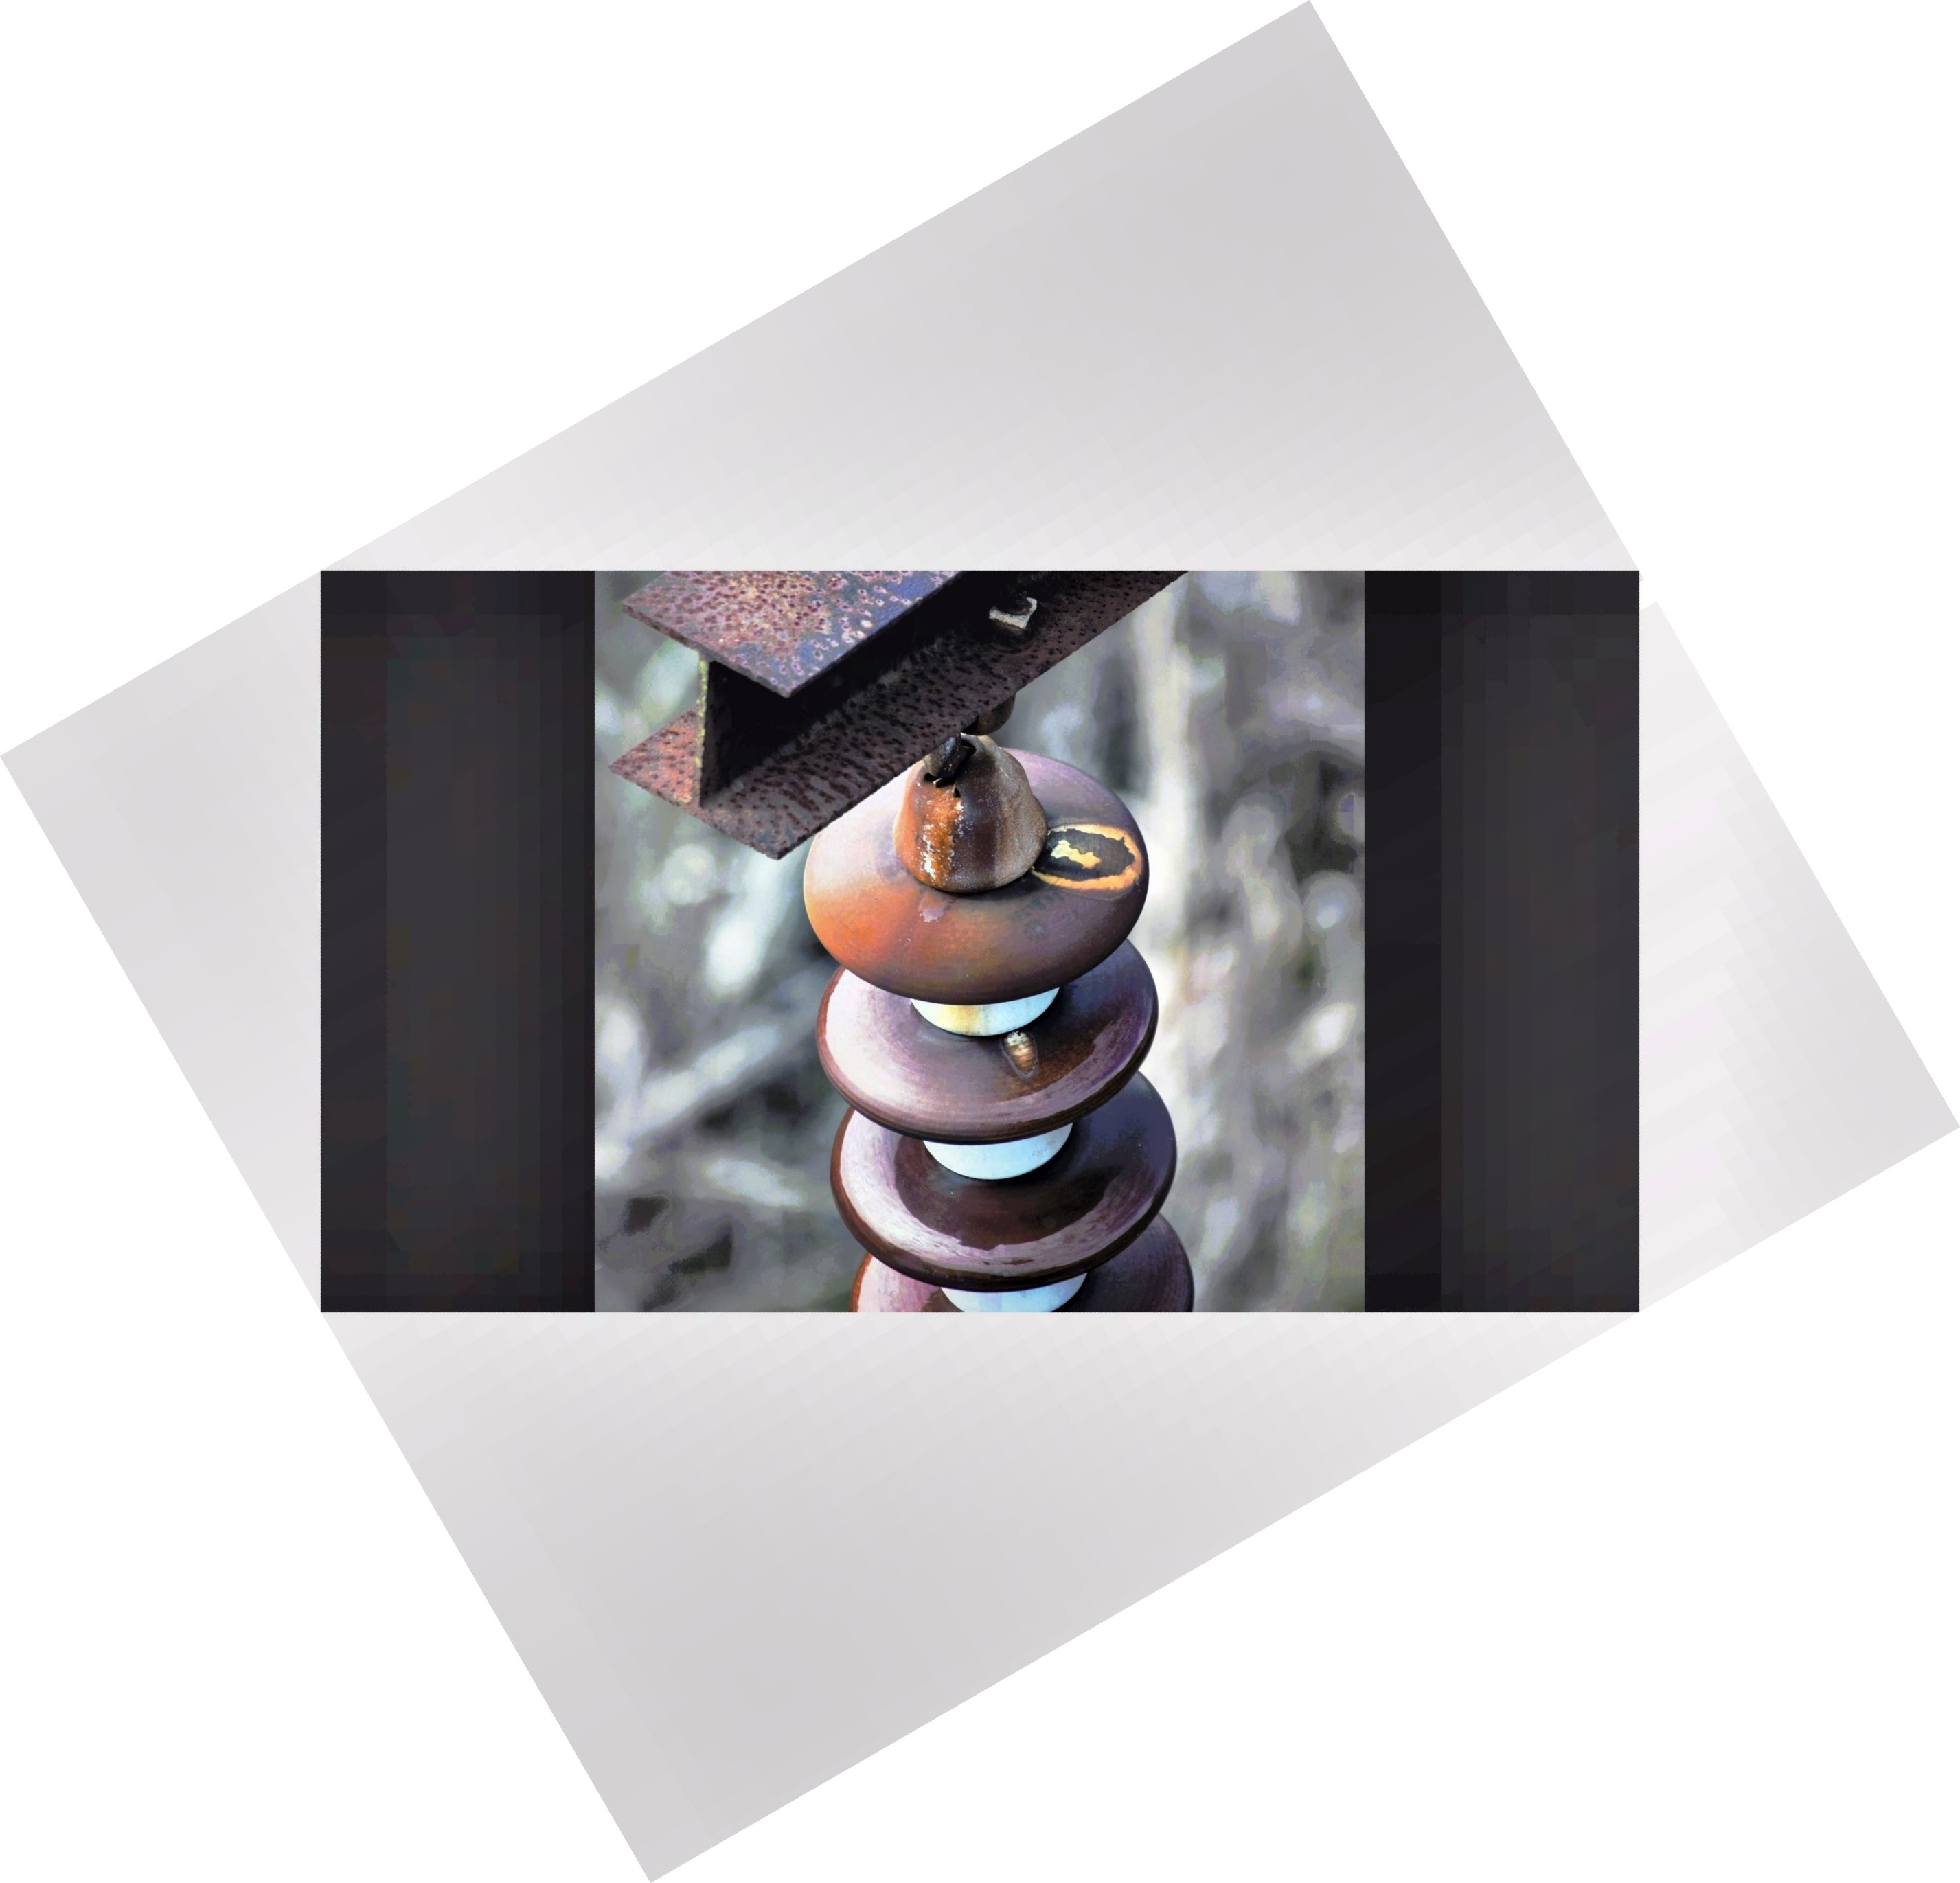Insulator flashover: (780, 721, 1165, 1017)
